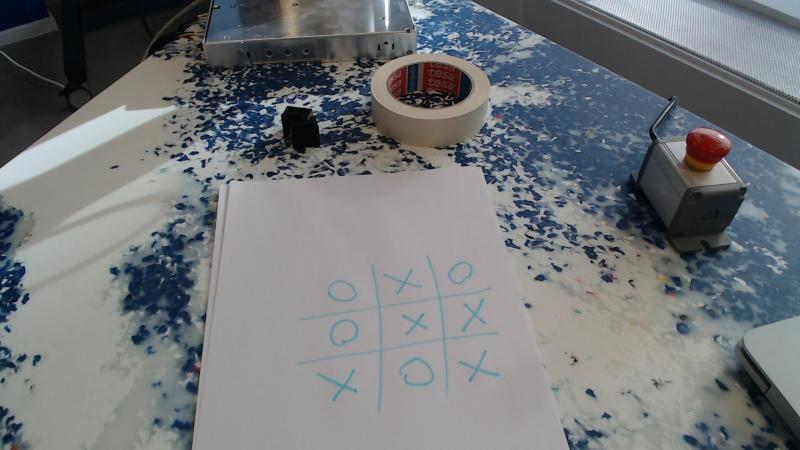O: (396, 354, 438, 394), (322, 317, 367, 352), (318, 275, 362, 305), (446, 262, 477, 288)
X: (316, 369, 368, 408), (377, 266, 431, 294), (456, 352, 498, 386), (391, 313, 431, 336), (461, 301, 489, 331)
grid: (282, 258, 516, 422)
